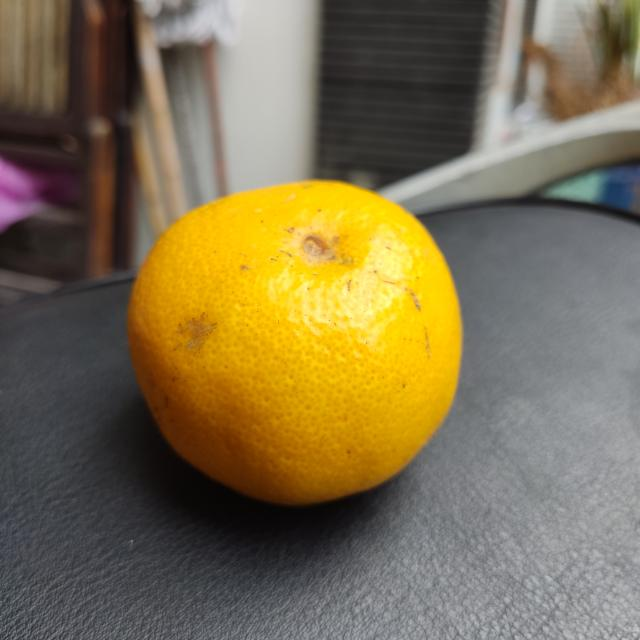orange: (122, 175, 464, 508)
